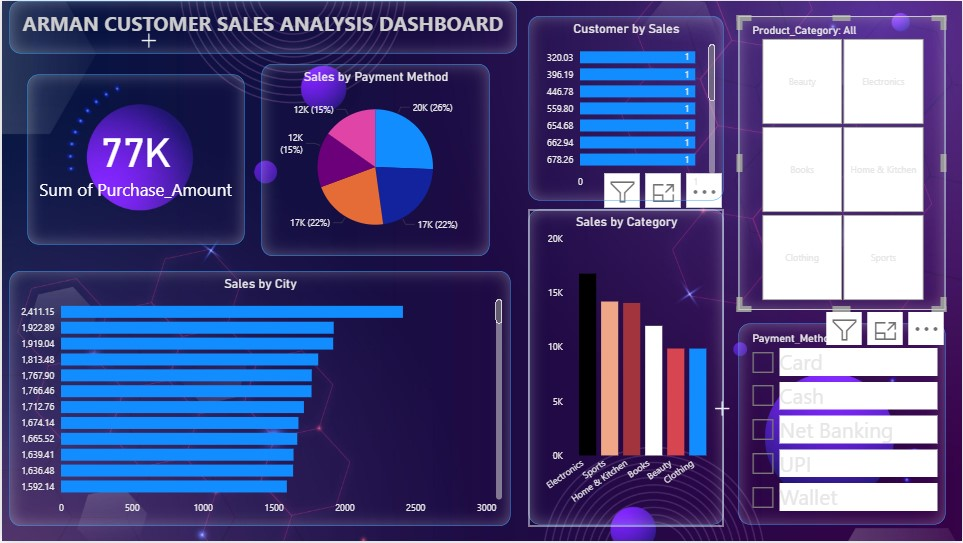

This screenshot's page, from the dashboard's own definition file:
{"tool":"powerbi","page":{"name":"Page 1","canvas":[1280,720],"ordinal":0},"visuals":[{"type":"textbox","box":[9.4,0,676.5,69.9],"z":0},{"type":"card","fields":{"Values":["Sum(customer_sales_dataset.Purchase_Amount)"]},"box":[33.4,98.3,289.1,226.8],"z":1000},{"type":"columnChart","title":"Sales by Category","fields":{"Category":["customer_sales_dataset.Product_Category"],"Y":["Sum(customer_sales_dataset.Purchase_Amount)"]},"box":[701.1,278.8,260.9,420.3],"z":2000},{"type":"clusteredBarChart","title":"Sales by City","fields":{"Category":["customer_sales_dataset.Purchase_Amount"],"Y":["customer_sales_dataset.Count of City plus Sum of Purchase_Amount 6"]},"box":[10,360,668,340],"z":3000},{"type":"pieChart","title":"Sales by Payment Method","fields":{"Y":["Sum(customer_sales_dataset.Purchase_Amount)"],"Category":["customer_sales_dataset.Payment_Method"]},"box":[346,84,304,256],"z":4000},{"type":"clusteredBarChart","title":"Customer by Sales","fields":{"Category":["customer_sales_dataset.Purchase_Amount"],"Y":["CountNonNull(customer_sales_dataset.Customer_Name)"]},"box":[702,20,260,246],"z":5000},{"type":"slicer","fields":{"Values":["customer_sales_dataset.Product_Category"]},"box":[982,20,276,392],"z":6000},{"type":"slicer","fields":{"Values":["customer_sales_dataset.Payment_Method"]},"box":[982,430,276,268],"z":7000},{"type":"actionButton","box":[0,0,100,40],"z":7002}]}

Visuals, with their boxes in screenshot pixels (x1, y1, x2, y2), scaled from the page's 1280x720 canvas onto the 963x543 screenshot:
textbox: (left=7, top=0, right=516, bottom=53)
card - Sum(customer_sales_dataset.Purchase_Amount): (left=25, top=74, right=243, bottom=245)
"Sales by Category" columnChart: (left=527, top=210, right=724, bottom=527)
"Sales by City" clusteredBarChart: (left=8, top=272, right=510, bottom=528)
"Sales by Payment Method" pieChart: (left=260, top=63, right=489, bottom=256)
"Customer by Sales" clusteredBarChart: (left=528, top=15, right=724, bottom=201)
slicer - customer_sales_dataset.Product_Category: (left=739, top=15, right=946, bottom=311)
slicer - customer_sales_dataset.Payment_Method: (left=739, top=324, right=946, bottom=526)
actionButton: (left=0, top=0, right=75, bottom=30)
